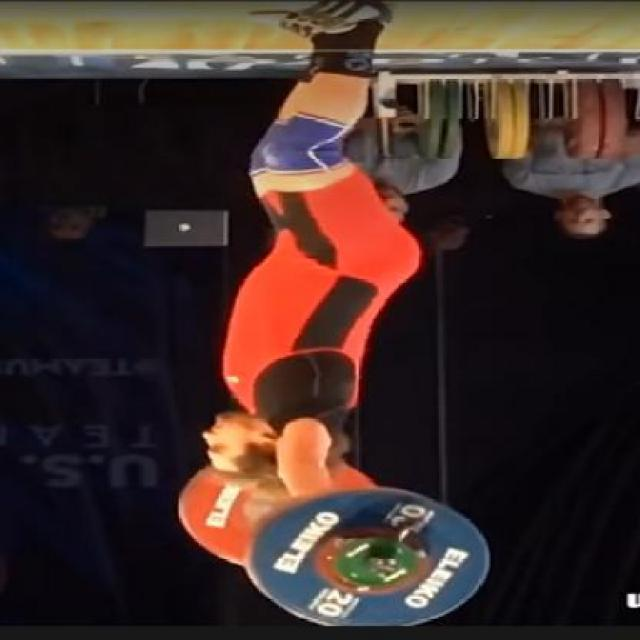Barbell: (364, 555, 412, 577)
